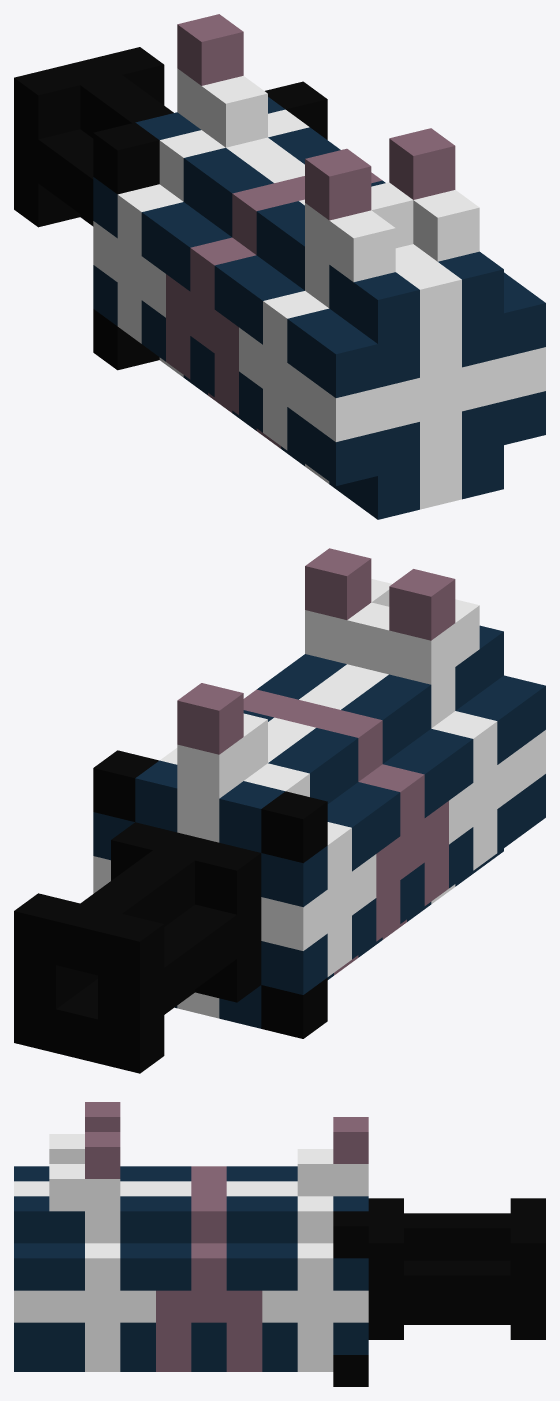
File: akm-1.obj
The picture shows the model from 3 angles, top to bottom: view 1: azimuth 30°, elevation 25°; view 2: azimuth 150°, elevation 25°; view 3: azimuth 270°, elevation 25°; orthographic projection. The views are drawn at different scales.
Bounding box in the file's own units: 0.5 × 0.7 × 1.5.
Materials: 1 (1 with a texture image).
